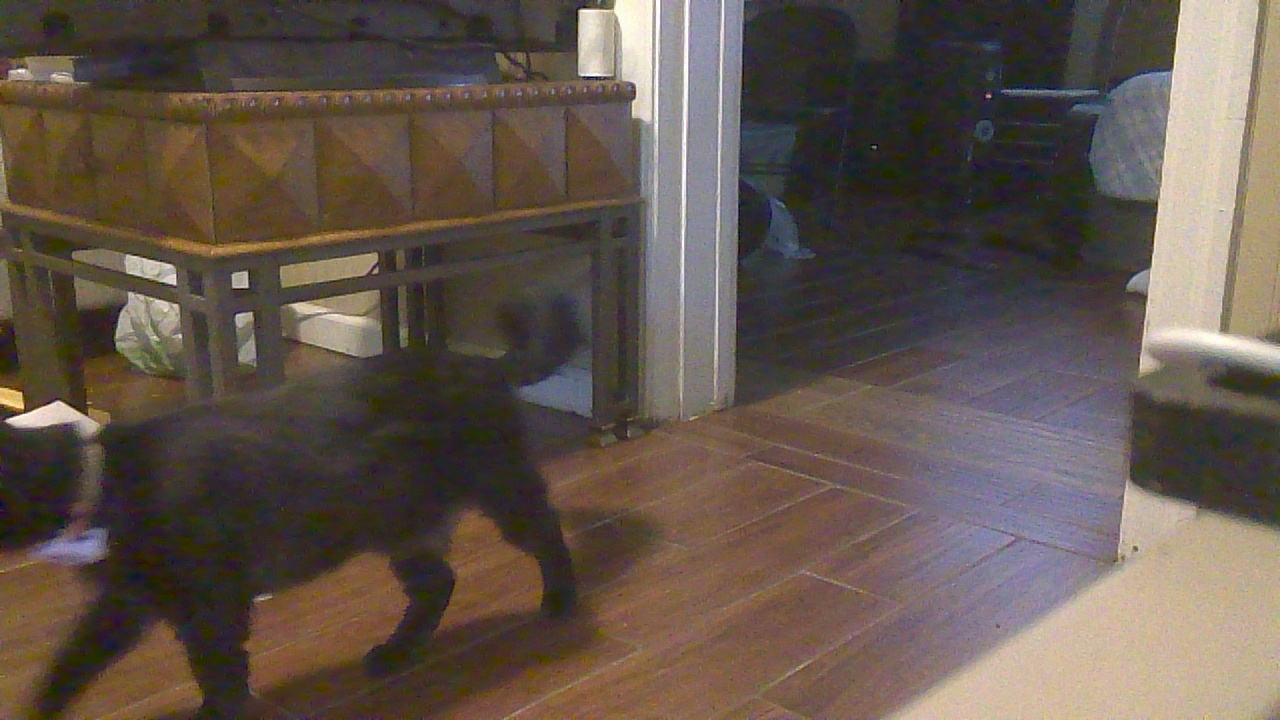cat: (1, 278, 596, 715)
